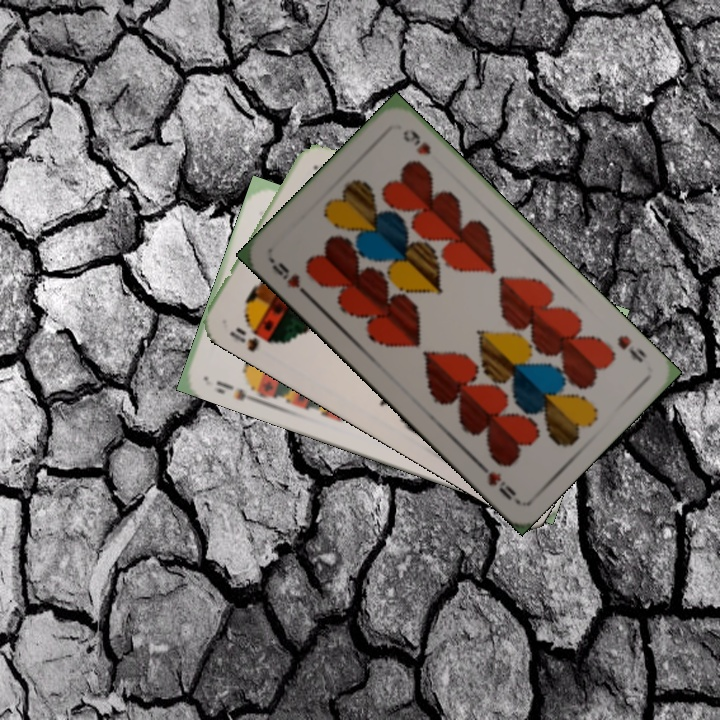H9: (266, 254, 313, 301), (613, 331, 650, 366)
S9: (211, 376, 263, 406)
SO: (225, 323, 262, 355)
